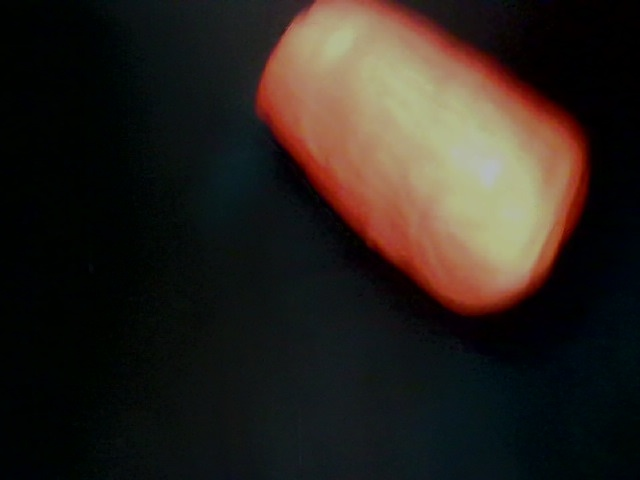CYLJ: (248, 1, 591, 332)
